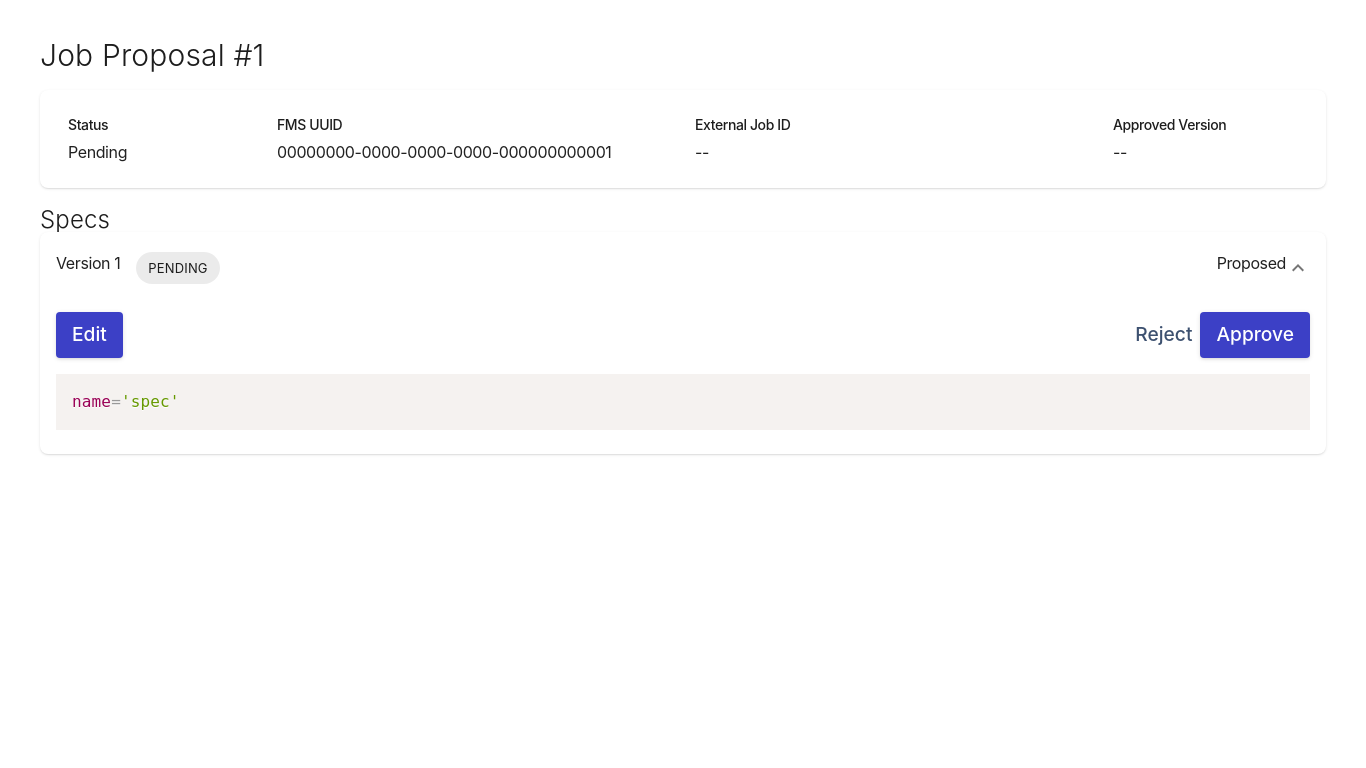
Test: JobProposalScreen › rejects a pending proposal
Click the button "Reject" at (1164, 335), box [1127, 312, 1200, 358]
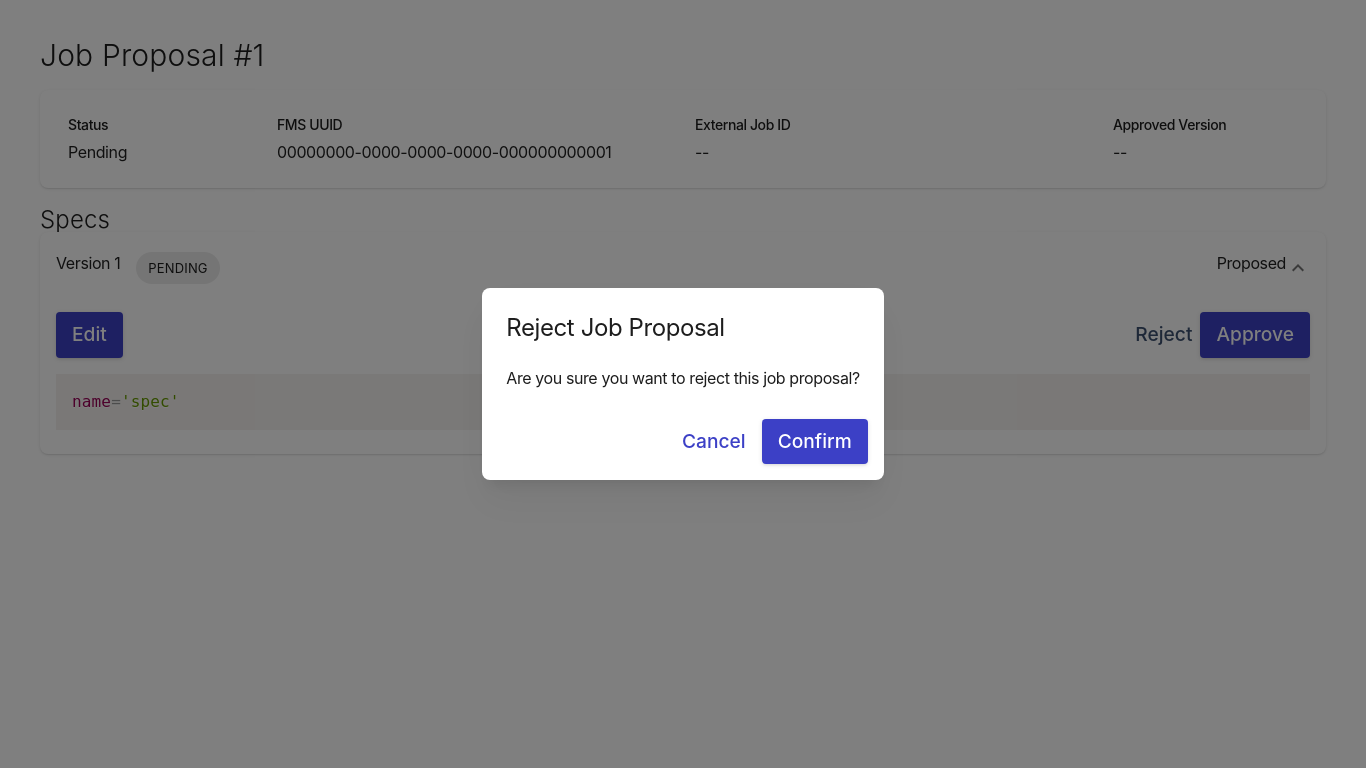
Click the button "Confirm" at (815, 442), box [762, 419, 868, 464]
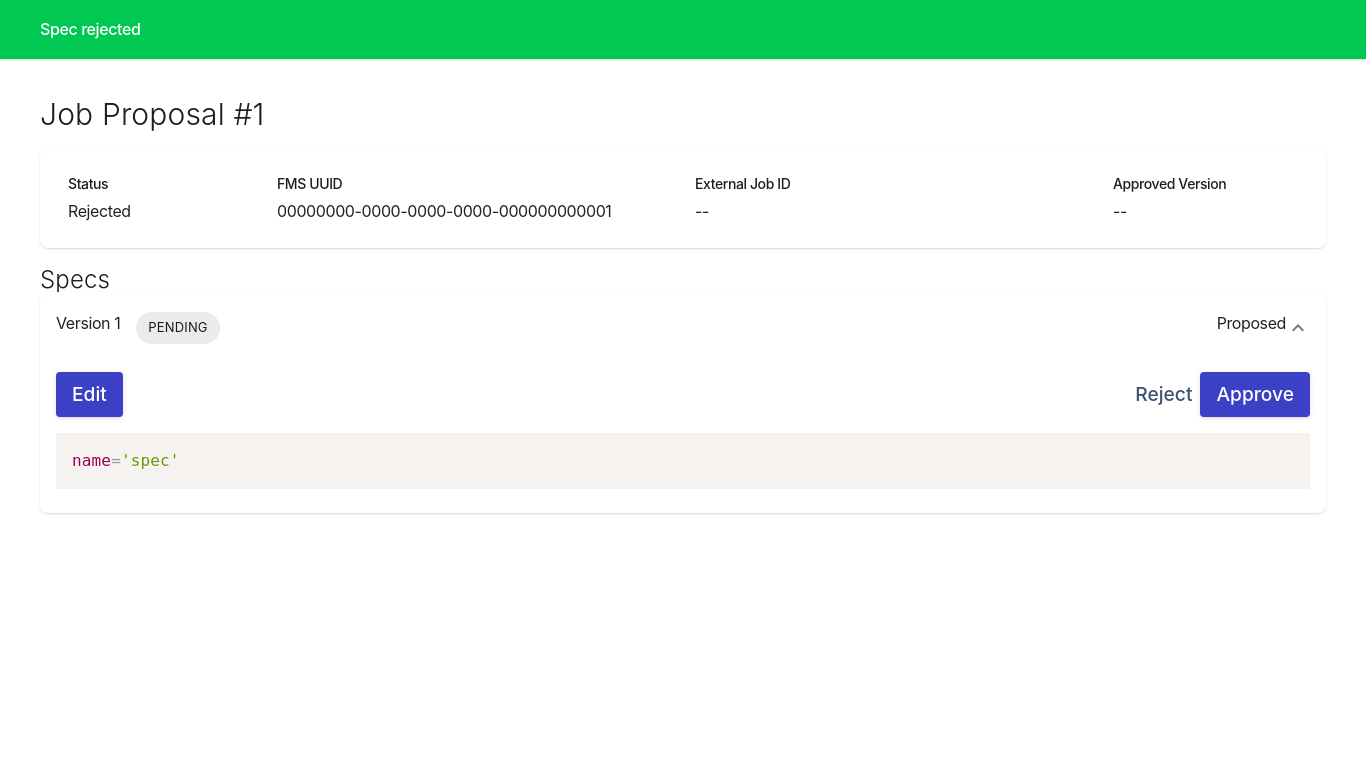
Expected: the text "Spec rejected" is shown, [40, 19, 140, 39]
Expected: the text "Rejected" is shown, [68, 201, 131, 221]
